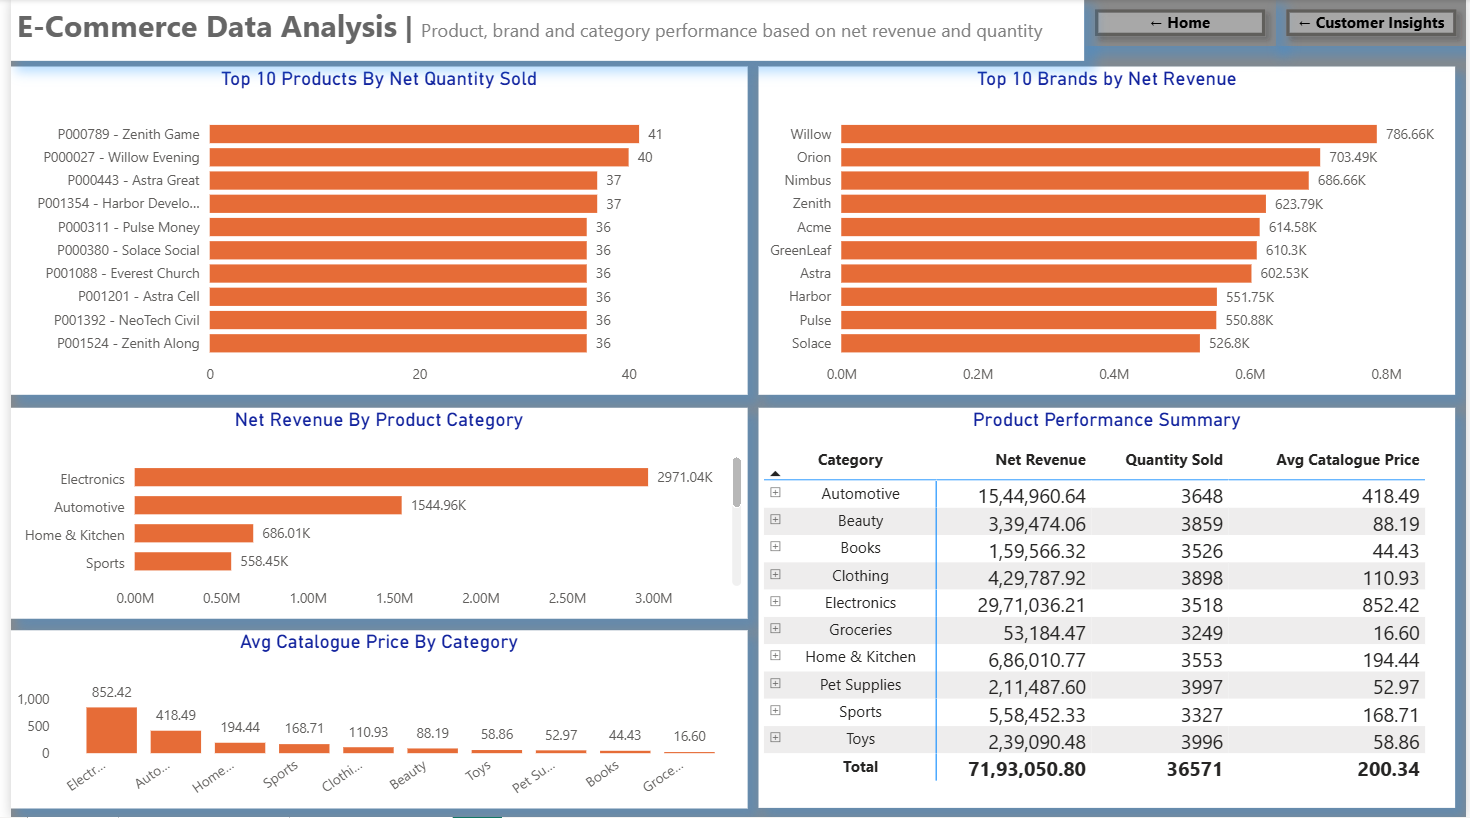

This screenshot's page, from the dashboard's own definition file:
{"tool":"powerbi","page":{"name":"Product Analysis","canvas":[1280,720],"ordinal":2},"visuals":[{"type":"clusteredBarChart","title":"Top 10 Products By Net Quantity Sold","fields":{"Category":["products.Product Label"],"Y":["order_items.Net Quantity Sold"]},"box":[0,59.5,647.6,289],"z":0},{"type":"clusteredBarChart","title":"Top 10 Brands by Net Revenue","fields":{"Category":["products.brand"],"Y":["order_items.Net Revenue (Items)"]},"box":[657.1,59.5,613.1,289],"z":1000},{"type":"clusteredBarChart","title":"Net Revenue By Product Category","fields":{"Category":["products.category"],"Y":["order_items.Net Revenue (Items)"]},"box":[0,359.5,647.6,185.7],"z":2000},{"type":"clusteredColumnChart","title":"Avg Catalogue Price By Category","fields":{"Category":["products.category"],"Y":["Measure (3).Average Product Price"]},"box":[0,554.8,647.6,157.1],"z":3000},{"type":"pivotTable","title":"Product Performance Summary","fields":{"Rows":["products.category","products.brand"],"Values":["order_items.Net Revenue (Items)","order_items.Net Quantity Sold","Measure (3).Average Product Price"]},"box":[657.1,359.5,613.1,352.4],"z":4000},{"type":"actionButton","box":[944.6,0,167.9,41.7],"z":5000},{"type":"actionButton","box":[1112.3,0,167.9,41.7],"z":6000},{"type":"textbox","box":[0,0,944.1,54.8],"z":7000}]}

Visuals, with their boxes in screenshot pixels (x1, y1, x2, y2), scaled from the page's 1280x720 canvas onto the 1470x818 screenshot:
"Top 10 Products By Net Quantity Sold" clusteredBarChart: pyautogui.locateOnScreen(0, 68, 744, 396)
"Top 10 Brands by Net Revenue" clusteredBarChart: pyautogui.locateOnScreen(755, 68, 1459, 396)
"Net Revenue By Product Category" clusteredBarChart: pyautogui.locateOnScreen(0, 408, 744, 619)
"Avg Catalogue Price By Category" clusteredColumnChart: pyautogui.locateOnScreen(0, 630, 744, 809)
"Product Performance Summary" pivotTable: pyautogui.locateOnScreen(755, 408, 1459, 809)
actionButton: pyautogui.locateOnScreen(1085, 0, 1278, 47)
actionButton: pyautogui.locateOnScreen(1277, 0, 1469, 47)
textbox: pyautogui.locateOnScreen(0, 0, 1084, 62)
